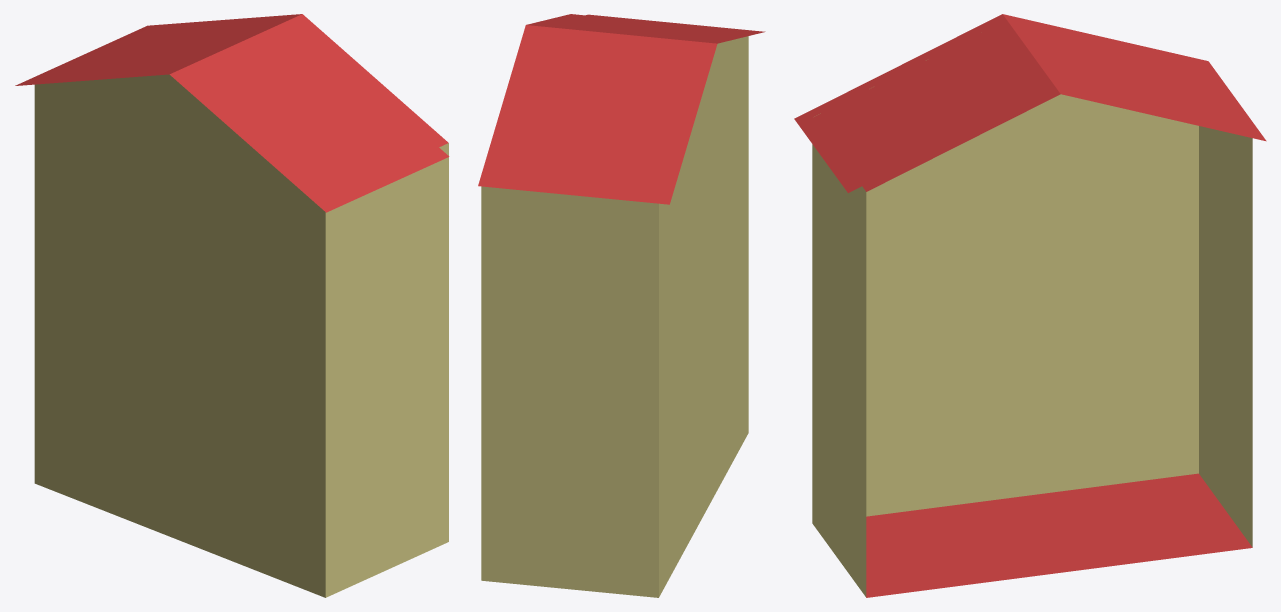
The picture shows the model from 3 angles, left to right: view 1: azimuth 30°, elevation 25°; view 2: azimuth 150°, elevation 25°; view 3: azimuth 270°, elevation 25°; orthographic projection.
Bounding box in the file's own units: 5.32 × 8.05 × 8.99.
